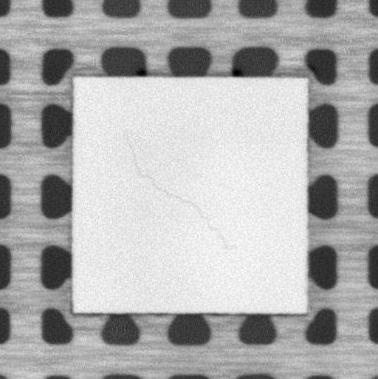DIE_CRACK: (122, 140, 231, 250)
